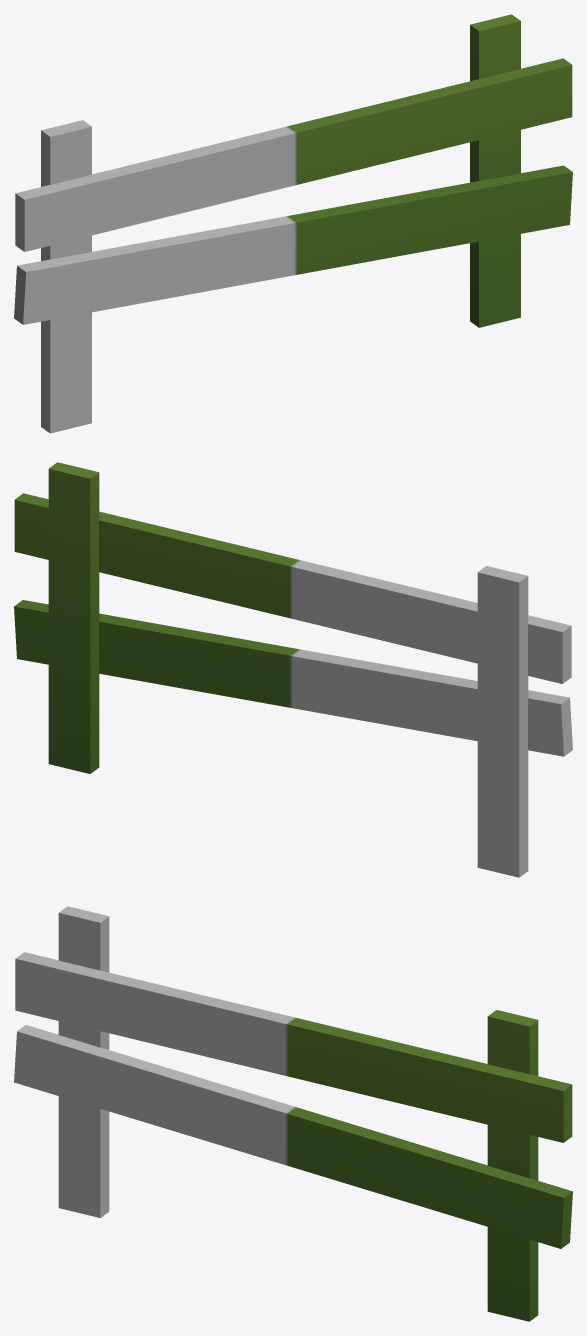
The model's file is Fence_05.fbx.
3 views of the same model, one above another, from view 1: azimuth 30°, elevation 25°; view 2: azimuth 150°, elevation 25°; view 3: azimuth 330°, elevation 25° (orthographic).
Parts seen in each view (by area): view 1: Fence_05; view 2: Fence_05; view 3: Fence_05.
Boxes of the visible parts, x1,y1,x2,y2 form: Fence_05: [14, 14, 572, 433]; Fence_05: [14, 462, 572, 877]; Fence_05: [14, 906, 572, 1321].
Size of the model in its own units: 3.8 by 1.95 by 0.2284.
